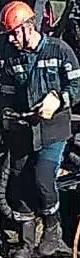gloves: (30, 87, 68, 121), (1, 105, 32, 136)
helmet: (0, 1, 37, 33)
vest: (0, 35, 72, 153)
